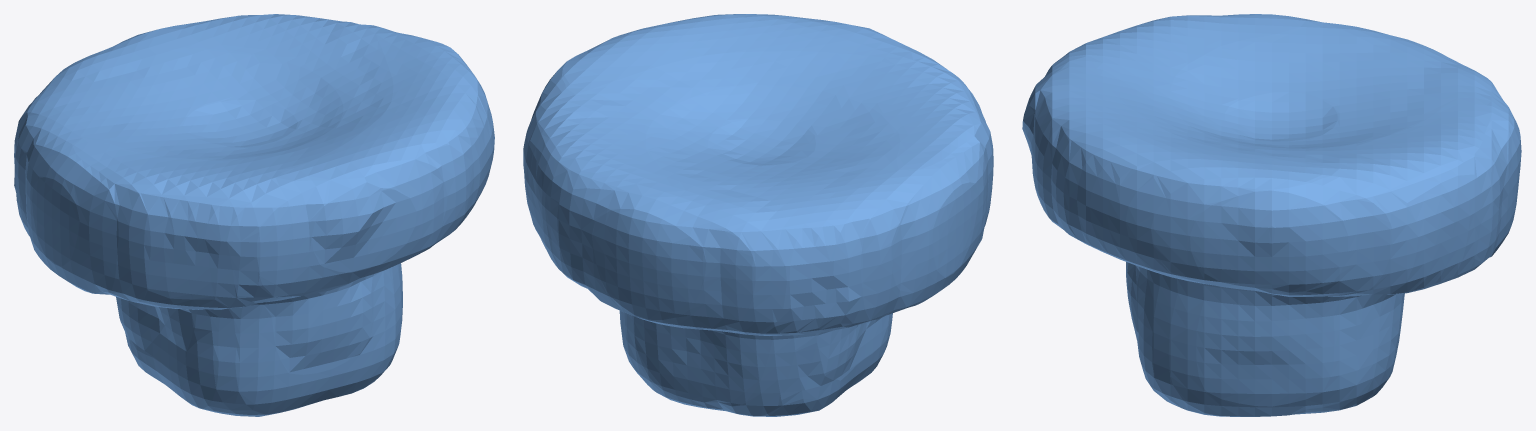
Rendered from water_0007.glb.
3 renders of one model, left to right at view 1: azimuth 30°, elevation 25°; view 2: azimuth 150°, elevation 25°; view 3: azimuth 270°, elevation 25°, orthographic. The views are drawn at different scales.
Parts seen in each view (by area): view 1: Water_0007; view 2: Water_0007; view 3: Water_0007.
Boxes of the visible parts, <box> form: Water_0007: <box>14,14,494,416</box>; Water_0007: <box>523,14,993,416</box>; Water_0007: <box>1022,14,1521,416</box>.
Bounding box in the file's own units: 1.7 × 1.15 × 1.72.
